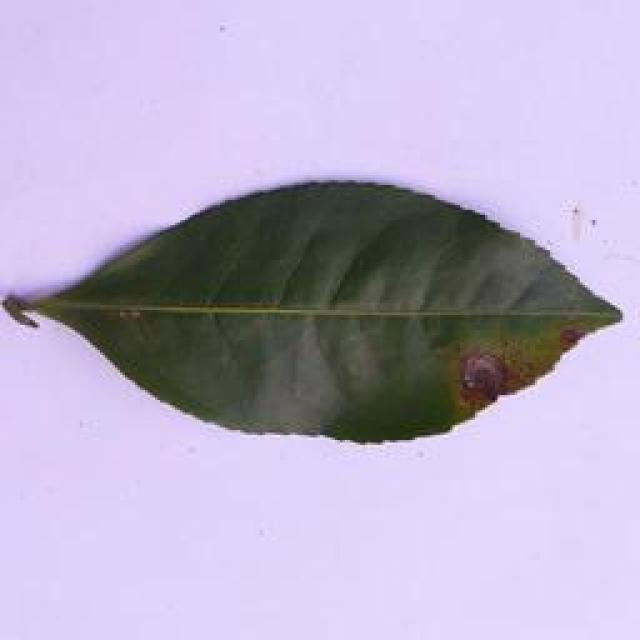Gray Blight: (2, 174, 625, 450)
